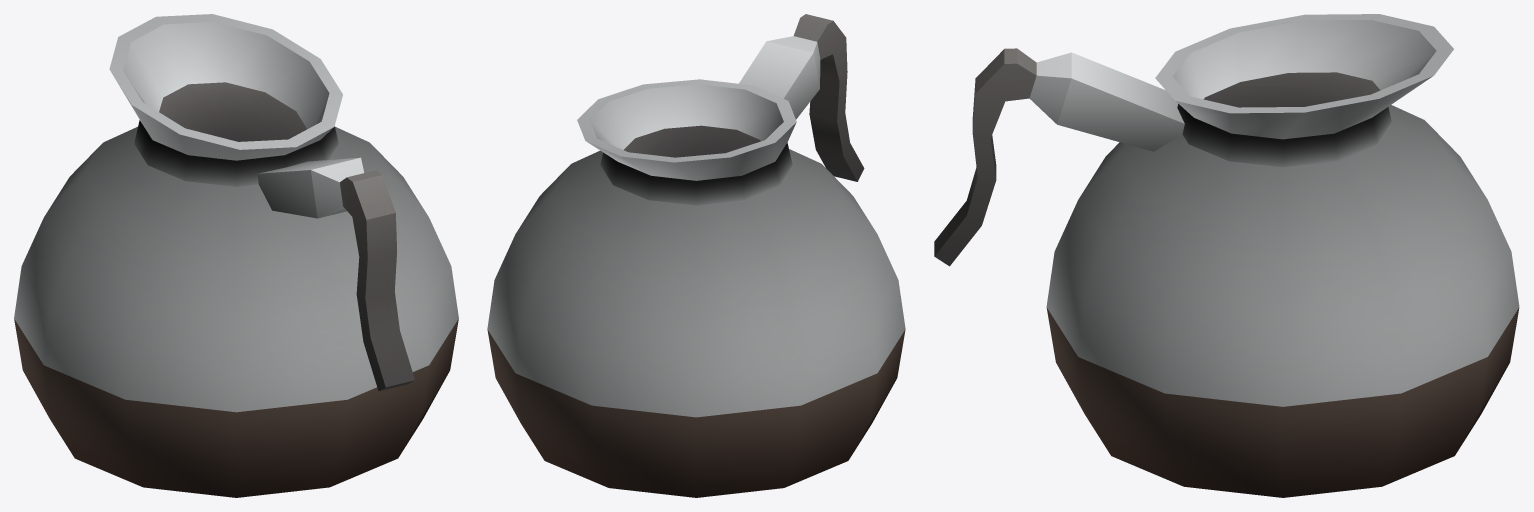
Rendered from CoffeeMakerJug.fbx.
The picture shows the model from 3 angles, left to right: view 1: azimuth 30°, elevation 25°; view 2: azimuth 150°, elevation 25°; view 3: azimuth 270°, elevation 25°; orthographic projection. The views are drawn at different scales.
Parts seen in each view (by area): view 1: CoffeeMakerJug; view 2: CoffeeMakerJug; view 3: CoffeeMakerJug.
Part boxes in pixels (x1,y1,x2,y2): CoffeeMakerJug: (14, 14, 458, 497); CoffeeMakerJug: (487, 14, 905, 497); CoffeeMakerJug: (934, 14, 1519, 497).
Bounding box in the file's own units: 18.17 × 16.05 × 22.47.
